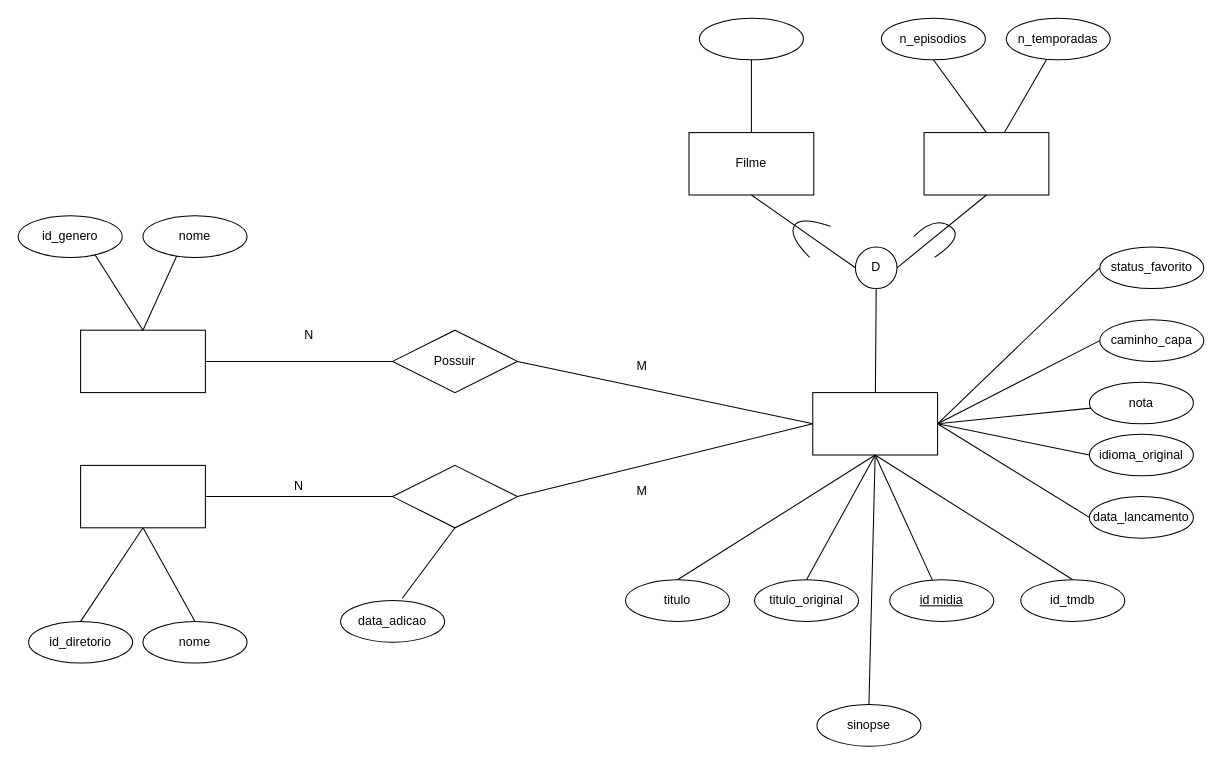
This 1222x764 diagram has some shape labels left out. The box of each missing label's shape, as (x1, y1, x2, y2) in pixels:
Conter: (392, 464, 517, 528)
Diretorio: (80, 464, 205, 528)
duracao: (698, 17, 803, 60)
Genero: (80, 329, 205, 393)
Midia: (812, 392, 938, 455)
Serie: (923, 132, 1049, 195)
